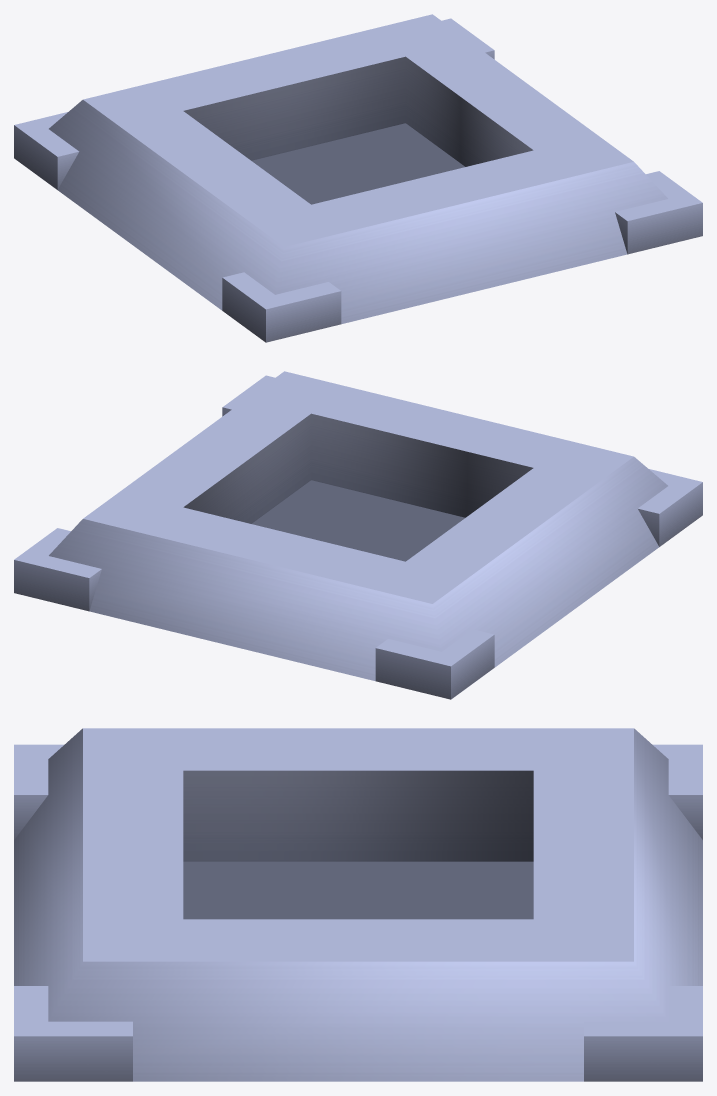
Rendered from spawn-square.gltf.
3 views of the same model, one above another, from view 1: azimuth 30°, elevation 25°; view 2: azimuth 150°, elevation 25°; view 3: azimuth 270°, elevation 25° (orthographic). The views are drawn at different scales.
Visible parts, largest first — view 1: spawn-square; view 2: spawn-square; view 3: spawn-square.
Part boxes in pixels (left/top/right/bottom): spawn-square: left=14, top=14, right=702, bottom=342; spawn-square: left=14, top=371, right=702, bottom=699; spawn-square: left=14, top=728, right=702, bottom=1081.
Bounding box in the file's own units: 0.6875 × 0.1 × 0.6862.
Materials: 1 (1 with a texture image).
